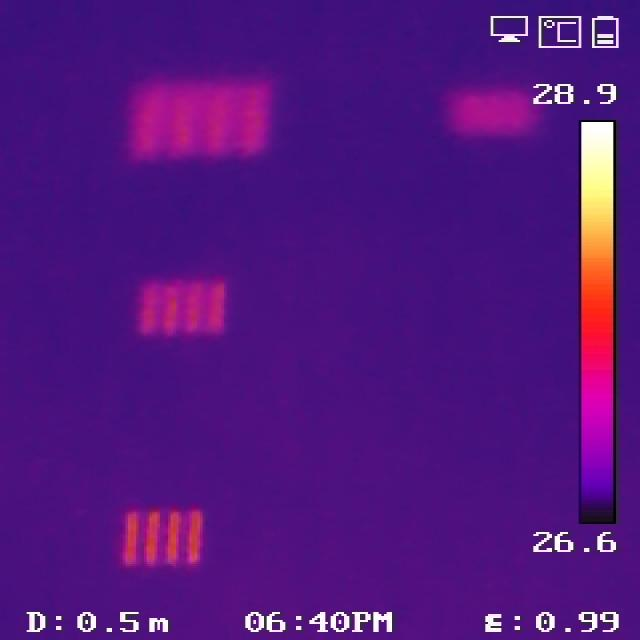Distinguishable 4-bar target: (111, 500, 205, 567)
Indistinguishable 4-bar target: (457, 83, 540, 138)
threshold 4-bar target: (135, 69, 269, 157), (144, 275, 231, 335)
